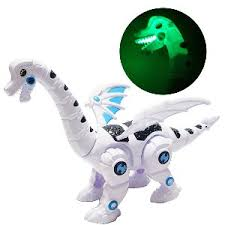apple: (98, 9, 211, 133)
bird: (7, 38, 203, 220), (9, 58, 138, 216)
sports ball: (119, 7, 205, 93)
teddy bear: (82, 22, 218, 192), (88, 97, 204, 207), (91, 49, 212, 146), (77, 118, 175, 218), (129, 111, 212, 203), (142, 136, 178, 201)
